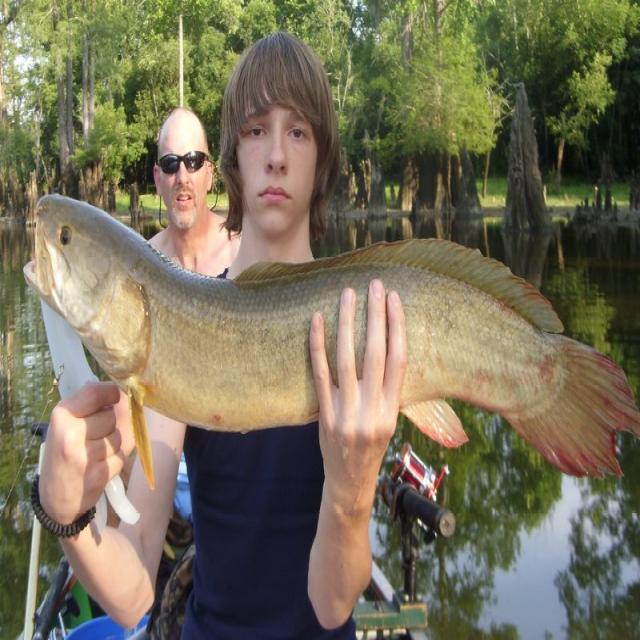Bowfin: (25, 194, 640, 476)
